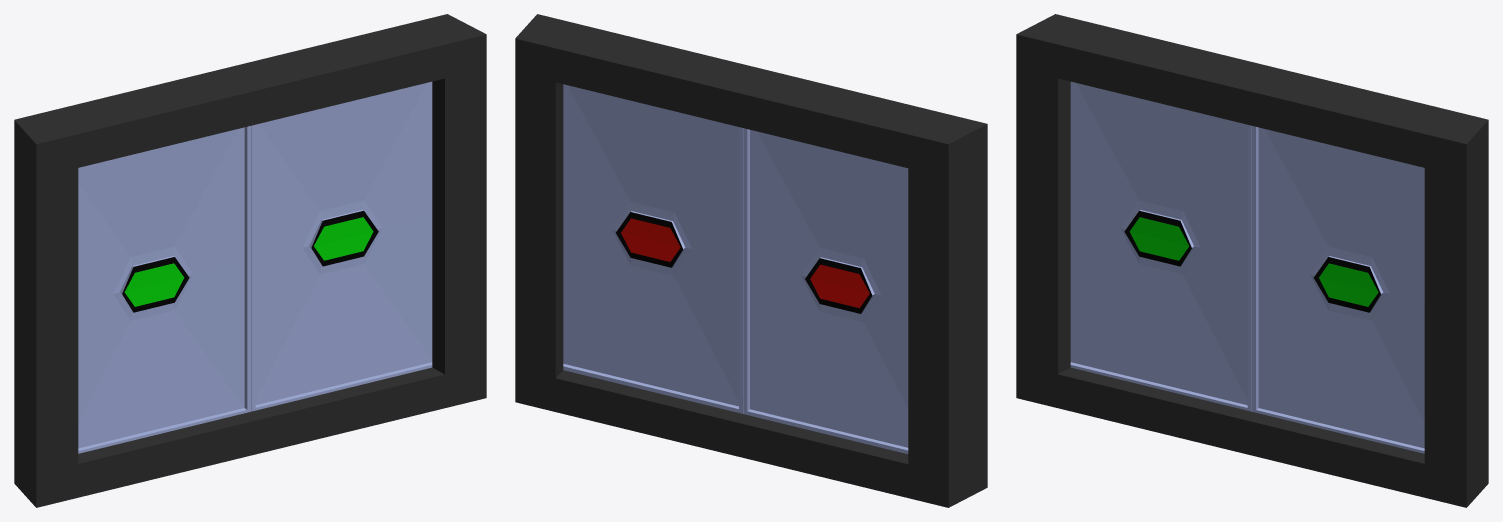
Rendered from Door 1.fbx.
3 renders of one model, left to right at view 1: azimuth 30°, elevation 25°; view 2: azimuth 150°, elevation 25°; view 3: azimuth 330°, elevation 25°, orthographic.
Parts seen in each view (by area): view 1: Door; view 2: Door; view 3: Door.
Part boxes in pixels (x1,y1,x2,y2): Door: (14, 14, 486, 507); Door: (515, 14, 987, 507); Door: (1016, 14, 1488, 507).
Size of the model in its own units: 247 by 190 by 29.17.
